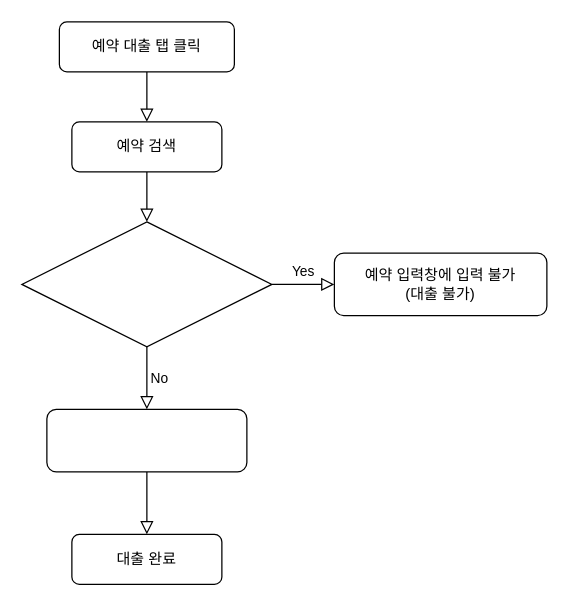
This 569x606 diagram has some shape labels left out. The shapes that lost their labels are listed below. From the top down, each one's box as (x1, y1, x2, y2) in pixels, then its label:
(21, 221, 272, 347): 예약한 유저가 연체회원인가? or 2권을 이미 대출 했는가?
(46, 408, 247, 472): 비고란 작성 후 대출 (비고란 디폴트 : 이상 없음)
